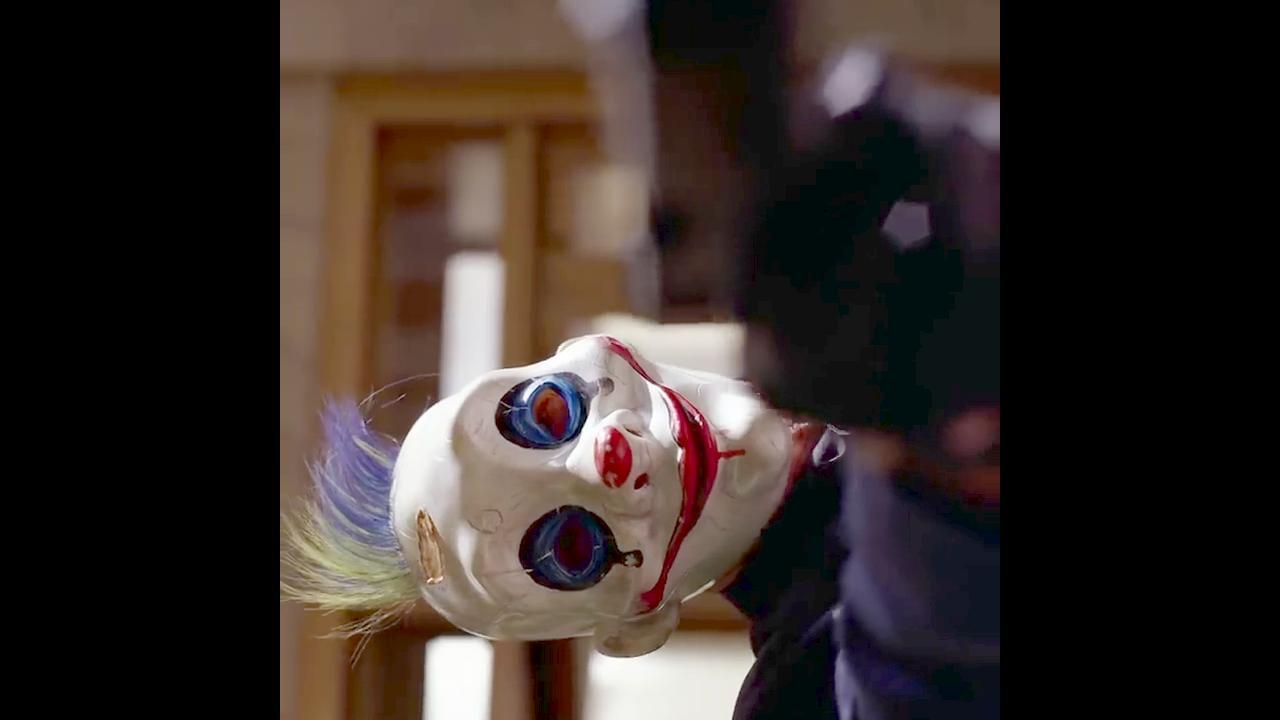gun: (569, 0, 993, 326)
